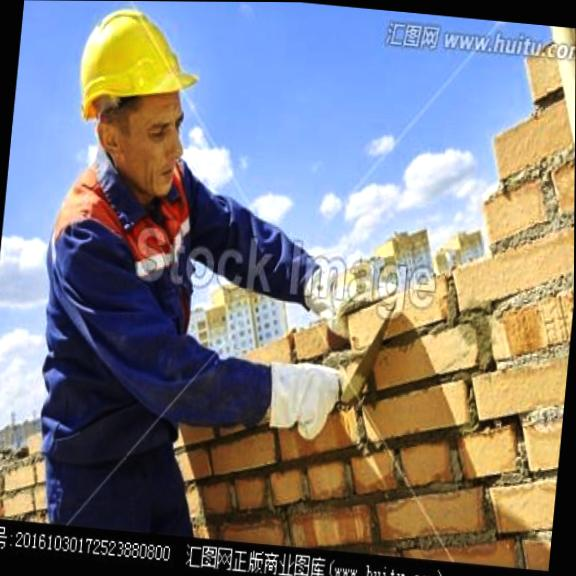no_safety_vest: (30, 148, 215, 463)
